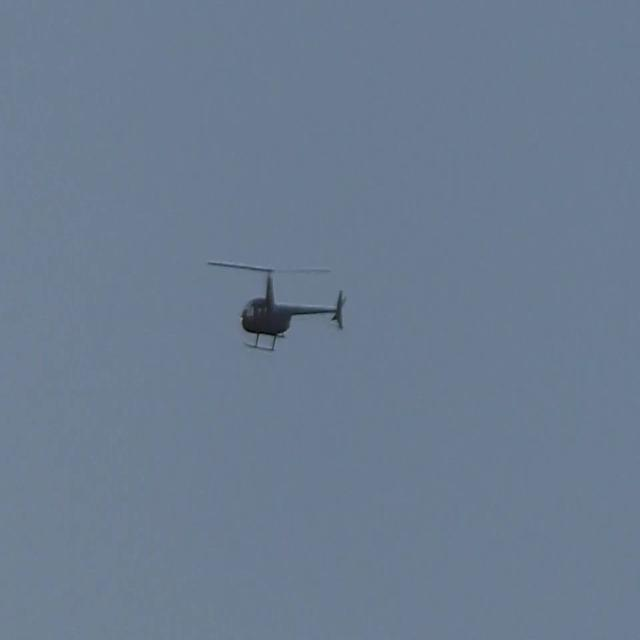CIV_HELO: (240, 270, 345, 354)
